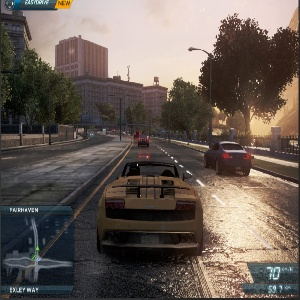building: (72, 65, 167, 136), (53, 34, 110, 124)
lamp post: (188, 43, 220, 144), (109, 91, 133, 146)
tree: (204, 20, 297, 140), (1, 30, 83, 137), (166, 78, 209, 139), (124, 103, 156, 131), (99, 100, 118, 128)
vehicle: (197, 135, 253, 175), (135, 131, 154, 149)
